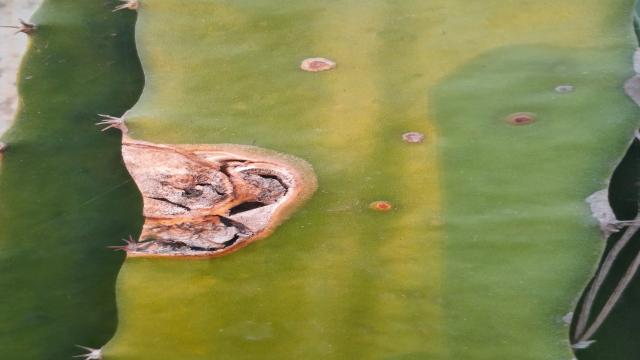stemcanker: (297, 55, 340, 75), (503, 110, 538, 129), (366, 197, 398, 215), (400, 129, 429, 147), (550, 81, 576, 96)
